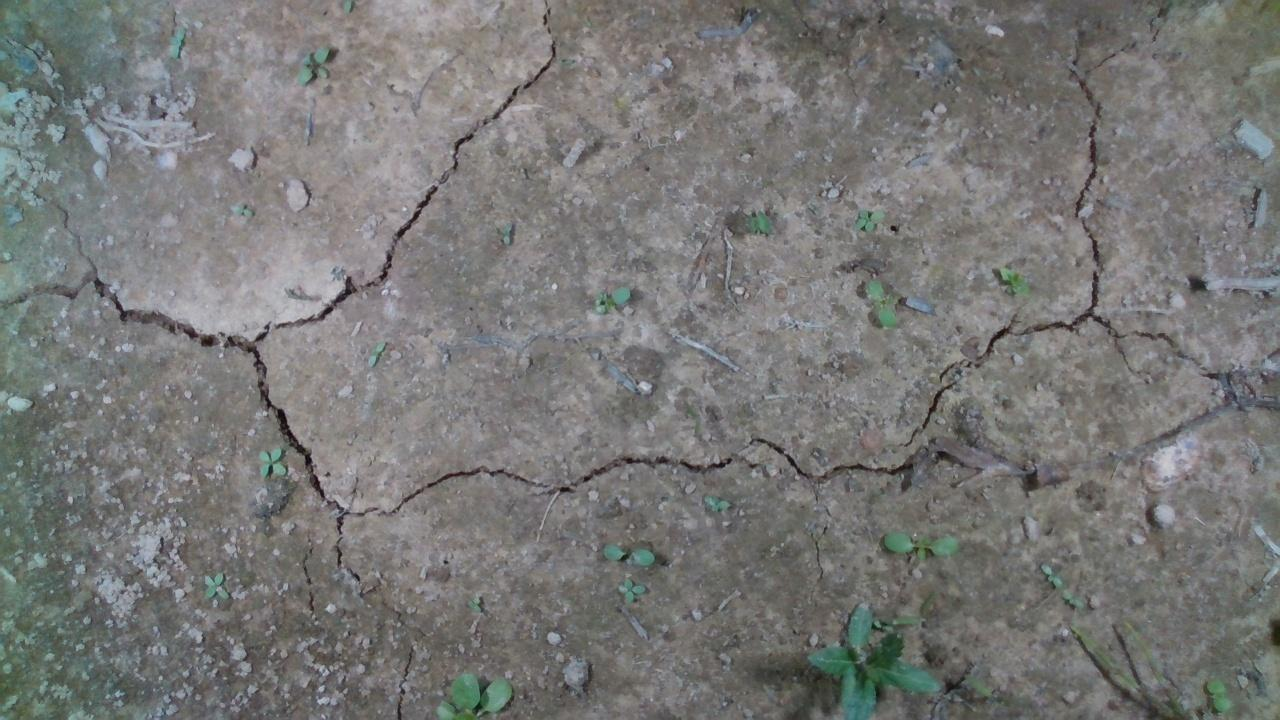weed: (855, 274, 924, 325), (599, 535, 680, 572), (725, 202, 789, 241), (878, 530, 959, 560), (247, 449, 299, 494), (991, 265, 1044, 302), (194, 567, 237, 605), (298, 45, 335, 85), (846, 202, 894, 231), (605, 577, 660, 601), (583, 287, 647, 307), (1032, 557, 1069, 587), (219, 195, 257, 220), (698, 488, 732, 508)
